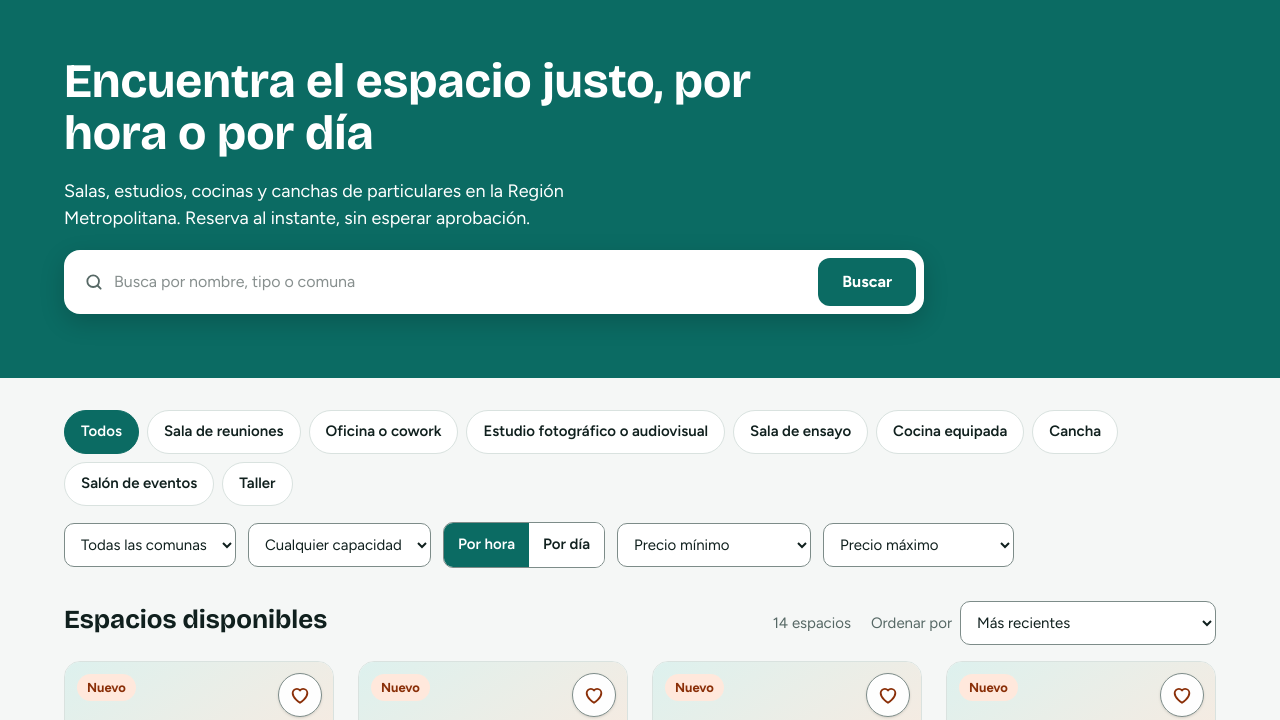
CatalogPage: filtros y búsqueda (BU-03) › comuna, capacidad y precio › "Por día" aplica el rango al precio por día, con otras opciones
Check: the button "Taller" is shown, box top-left (222, 462), bottom-right (292, 506)
Check: the text "14 espacios" is shown, box top-left (773, 612), bottom-right (851, 634)
Click the button "Por día" at [566, 545], box top-left (529, 523), bottom-right (604, 567)
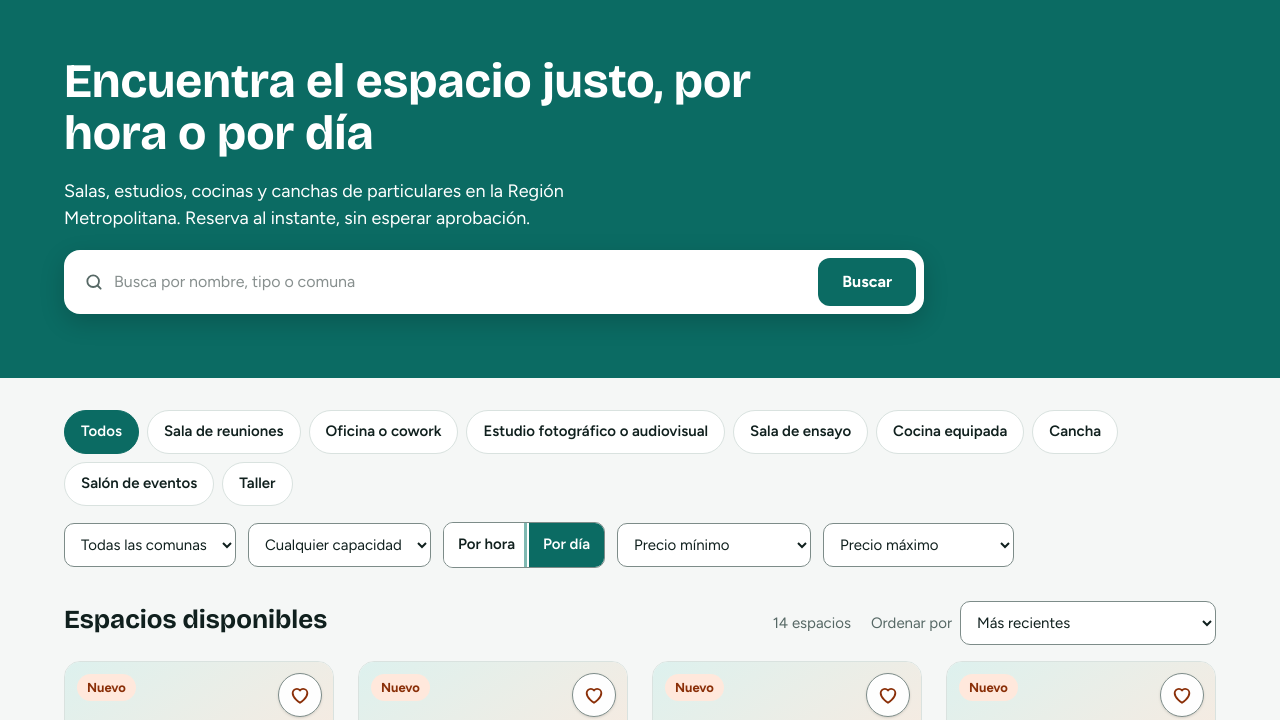
Check: the button "Por hora" is shown, box top-left (444, 523), bottom-right (529, 567)
Check: the text "14 espacios" is shown, box top-left (773, 612), bottom-right (851, 634)
Select "Hasta $50.000 / día" in the 4th dropdown named "Precio máximo" at [918, 545], box top-left (823, 523), bottom-right (1014, 567)
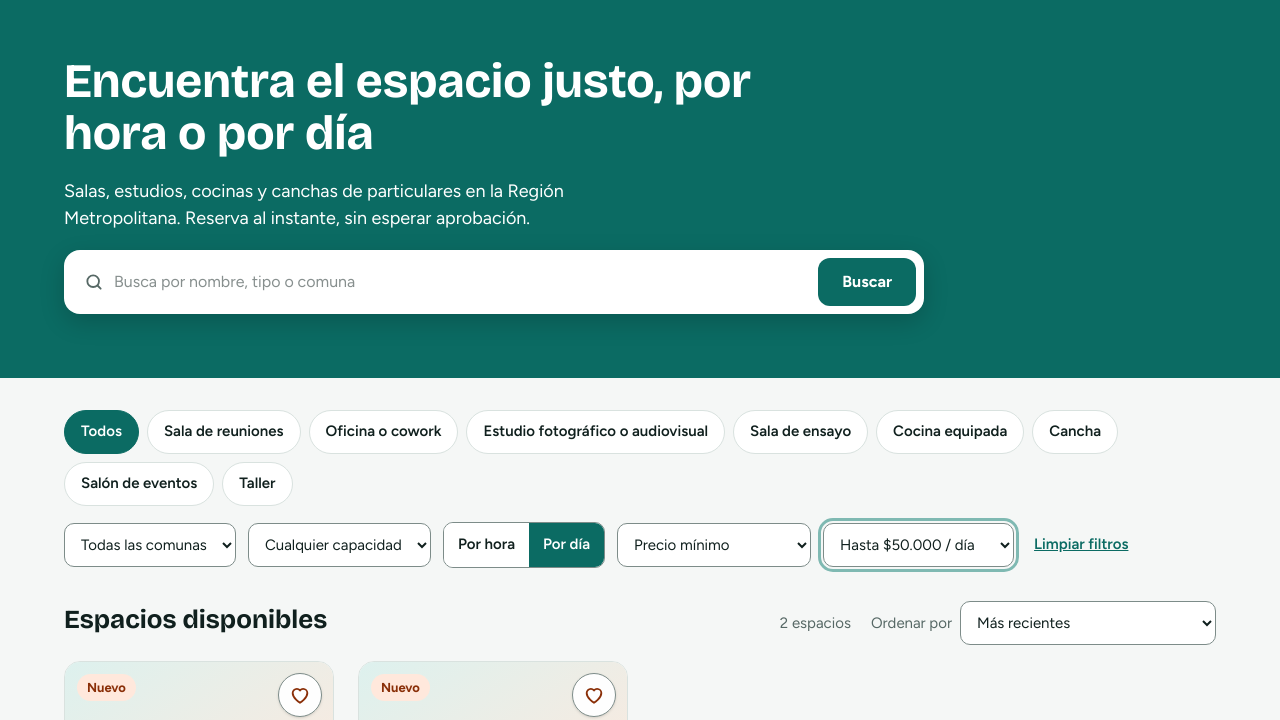
Check: the text "2 espacios" is shown, box top-left (780, 612), bottom-right (851, 634)
